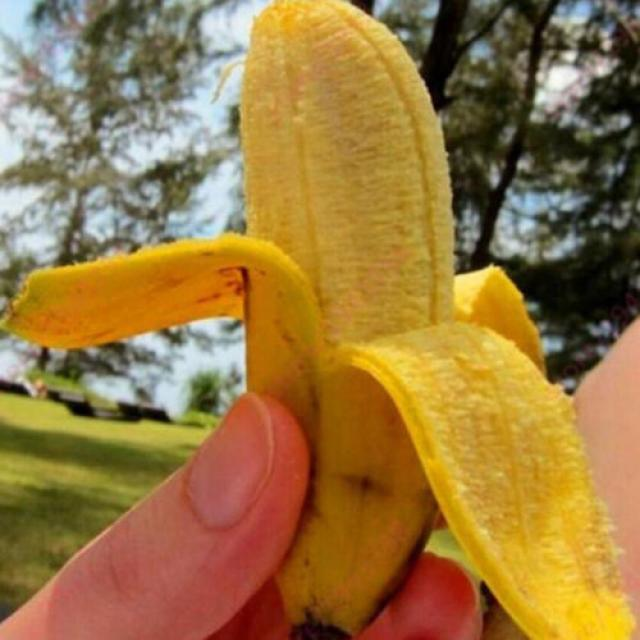banana: (9, 3, 640, 639)
